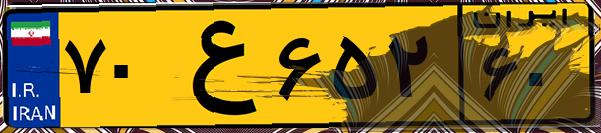0: (525, 38, 570, 115), (110, 28, 158, 98)
2: (385, 28, 445, 110)
5: (330, 28, 385, 110)
6: (270, 28, 330, 110), (475, 38, 525, 113)
7: (57, 26, 110, 100)
ع: (158, 12, 270, 120)
